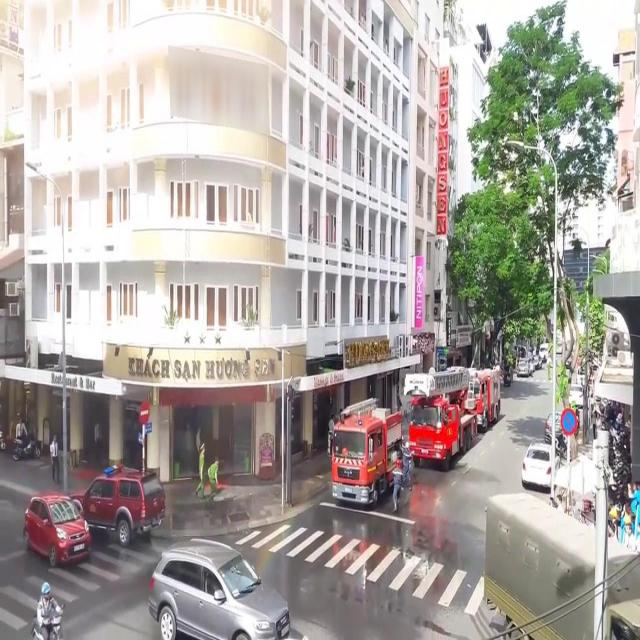car: (148, 538, 292, 640), (66, 463, 166, 546), (24, 489, 95, 563), (521, 438, 560, 492), (544, 409, 565, 444)
motorcycle: (32, 581, 64, 640)
truck: (483, 491, 640, 640), (331, 397, 404, 506), (408, 372, 478, 470), (462, 364, 500, 433)
